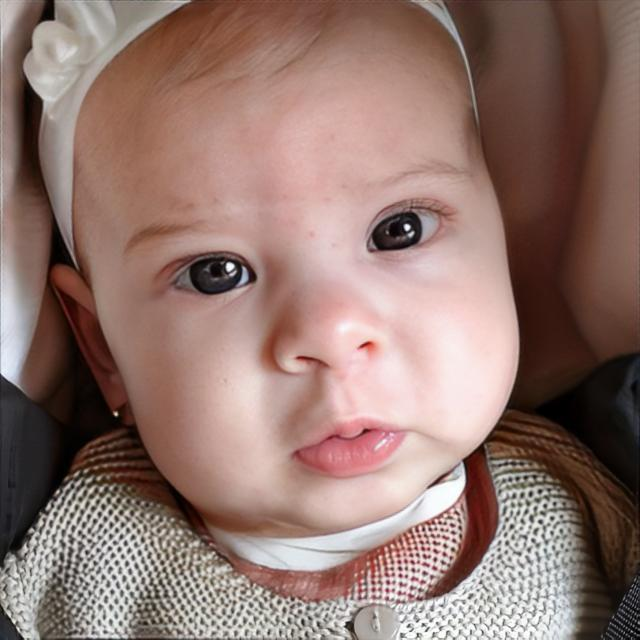sad: (72, 0, 521, 539)
